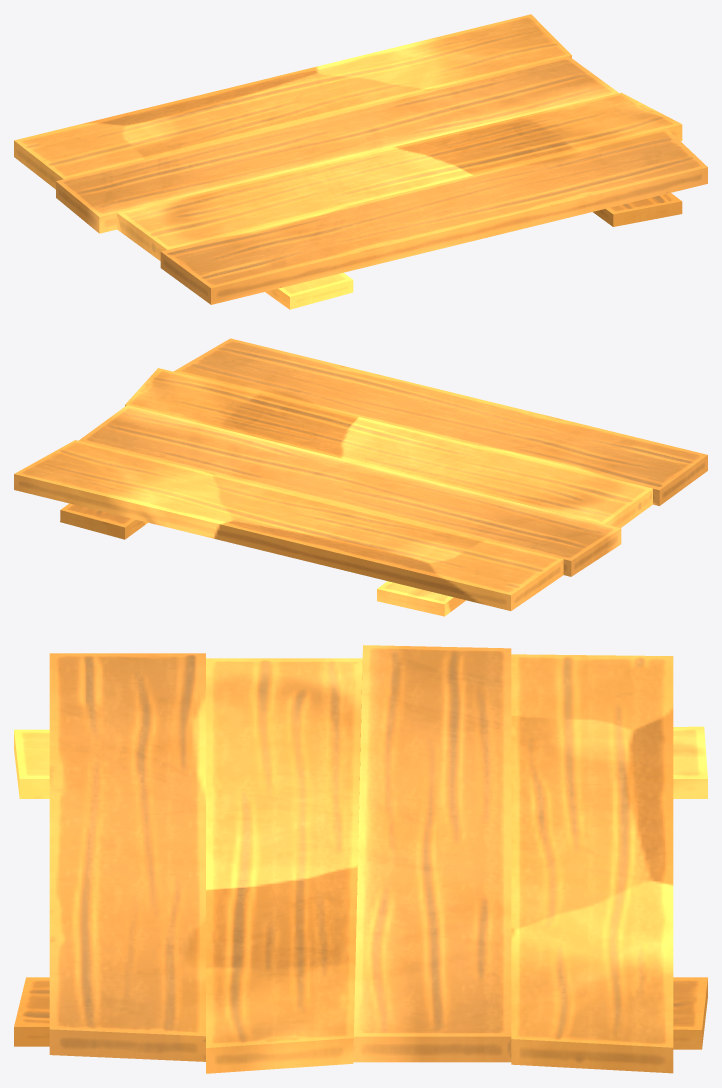
Rendered from SM_Stylized_PlanksA.fbx.
3 renders of one model, top to bottom at view 1: azimuth 30°, elevation 25°; view 2: azimuth 150°, elevation 25°; view 3: azimuth 270°, elevation 25°, orthographic. The views are drawn at different scales.
Parts seen in each view (by area): view 1: SM_Stylized_PlanksA_LOD0; view 2: SM_Stylized_PlanksA_LOD0; view 3: SM_Stylized_PlanksA_LOD0.
Part boxes in pixels (<box>): SM_Stylized_PlanksA_LOD0: <box>14,14,707,309</box>; SM_Stylized_PlanksA_LOD0: <box>14,338,707,616</box>; SM_Stylized_PlanksA_LOD0: <box>14,645,707,1073</box>.
Size of the model in its own units: 80.16 by 58.34 by 5.37.
